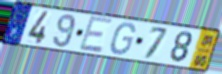4: (26, 9, 49, 46)
7: (144, 26, 170, 62)
8: (169, 31, 194, 64)
9: (51, 13, 77, 49)
E: (77, 14, 115, 54)
G: (109, 22, 137, 56)
